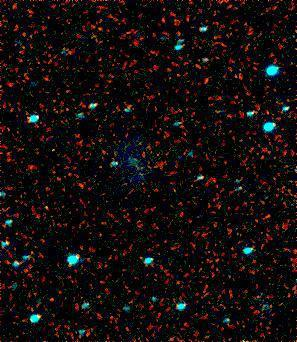star: (27, 194, 57, 224)
